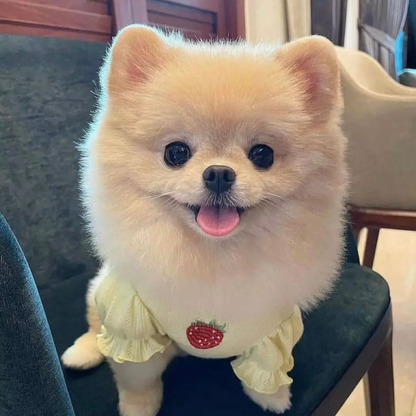Pomeranian: (63, 26, 366, 408)
